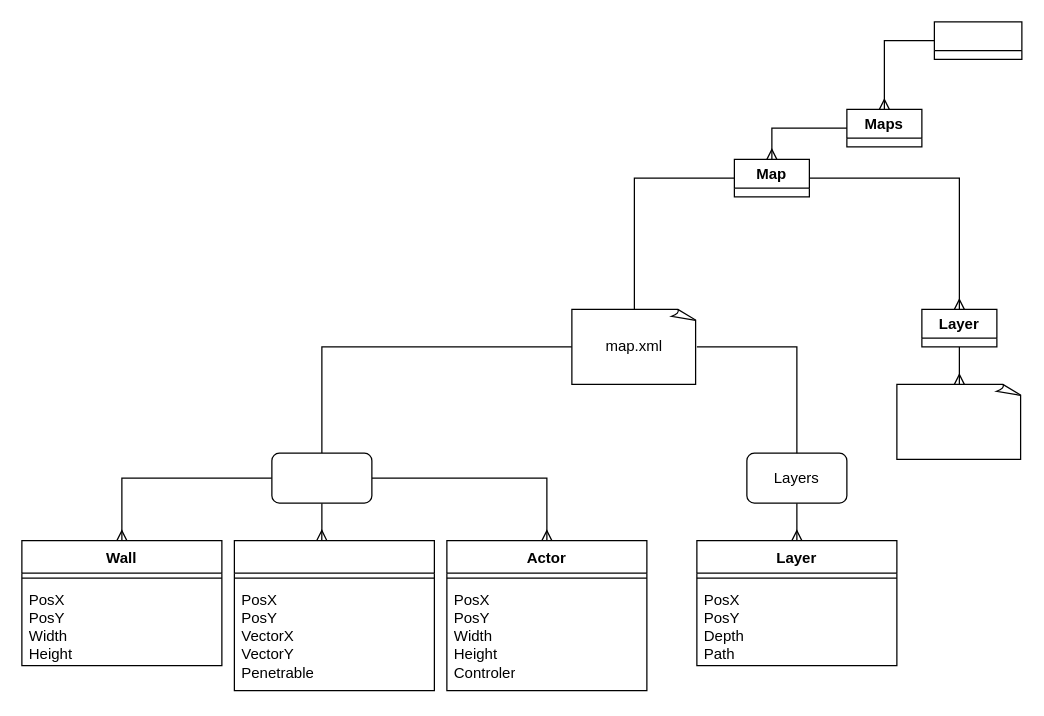
Some shapes in this 1044 by 716 pixel diagram are drawn without their labels. The box of each missing label's shape, as (x1, y1, x2, y2) in pixels:
Assets: (933, 21, 1022, 59)
GameObjects: (271, 452, 372, 503)
n.bmp: (896, 383, 1022, 459)
Slope: (233, 539, 434, 691)
